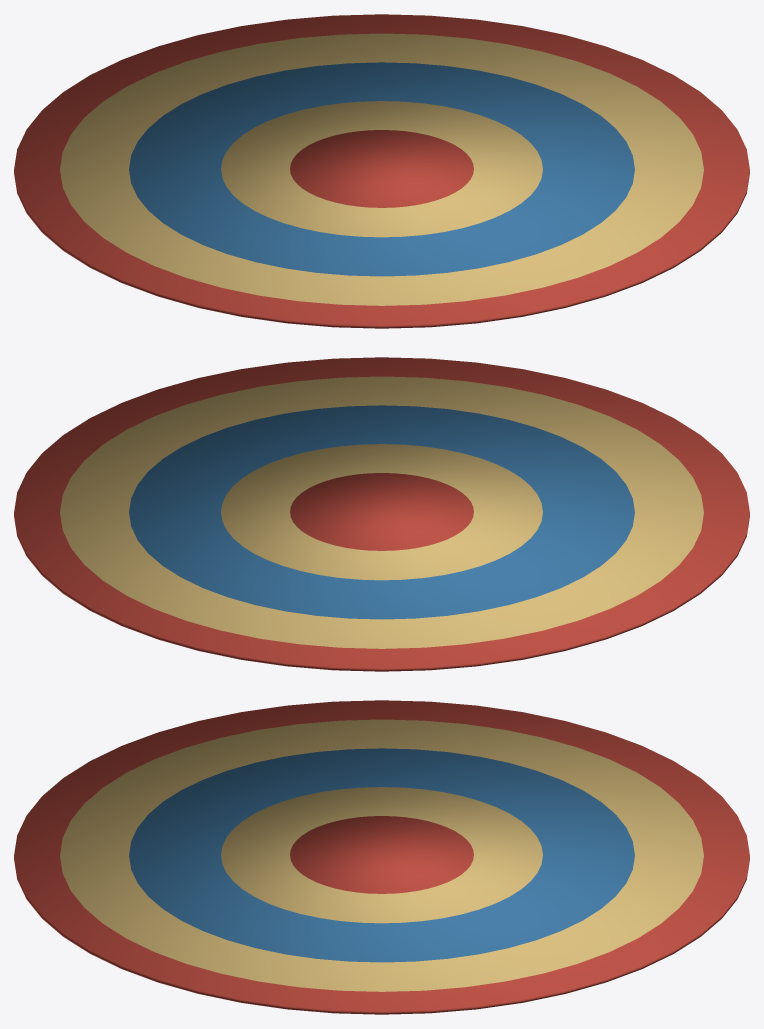
The model's file is rug_round.glb.
3 renders of one model, top to bottom at view 1: azimuth 30°, elevation 25°; view 2: azimuth 150°, elevation 25°; view 3: azimuth 270°, elevation 25°, orthographic.
Visible parts, largest first — view 1: rug_round; view 2: rug_round; view 3: rug_round.
Boxes of the visible parts, x1,y1,x2,y2 form: rug_round: (14, 14, 749, 328); rug_round: (14, 357, 749, 671); rug_round: (14, 700, 749, 1014).
Bounding box in the file's own units: 1.6 × 0.0104 × 1.6.
